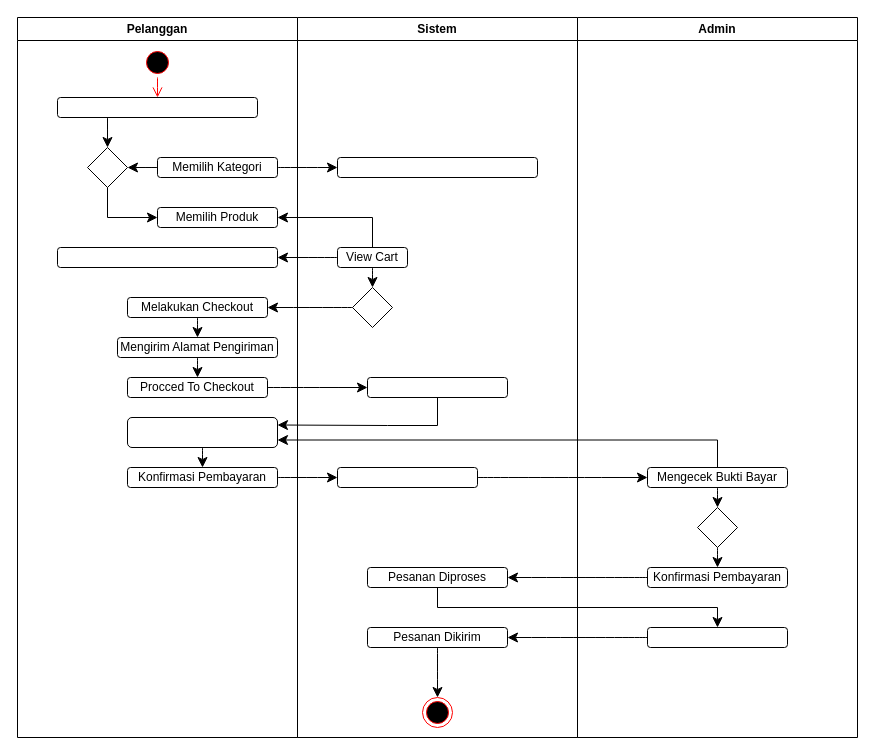
Image size: 875x755. Some labels were removed from this diagram. The shapes that lost their labels are listed below. From the top down, each one's centre as x and y in pixels, then its label:
At point (157, 107): "Menampilkan Halaman Pelanggan".
At point (437, 167): "Tampil Produk Sesuai Katagori".
At point (167, 257): "Masukkan Produk Ke Keranjang".
At point (437, 387): "Intruksi Pembayaran".
At point (202, 432): "Melakukan Pembayaran".
At point (407, 477): "Menunggu Konfirmasi".
At point (717, 637): "Mengirim Nomor Resi".
